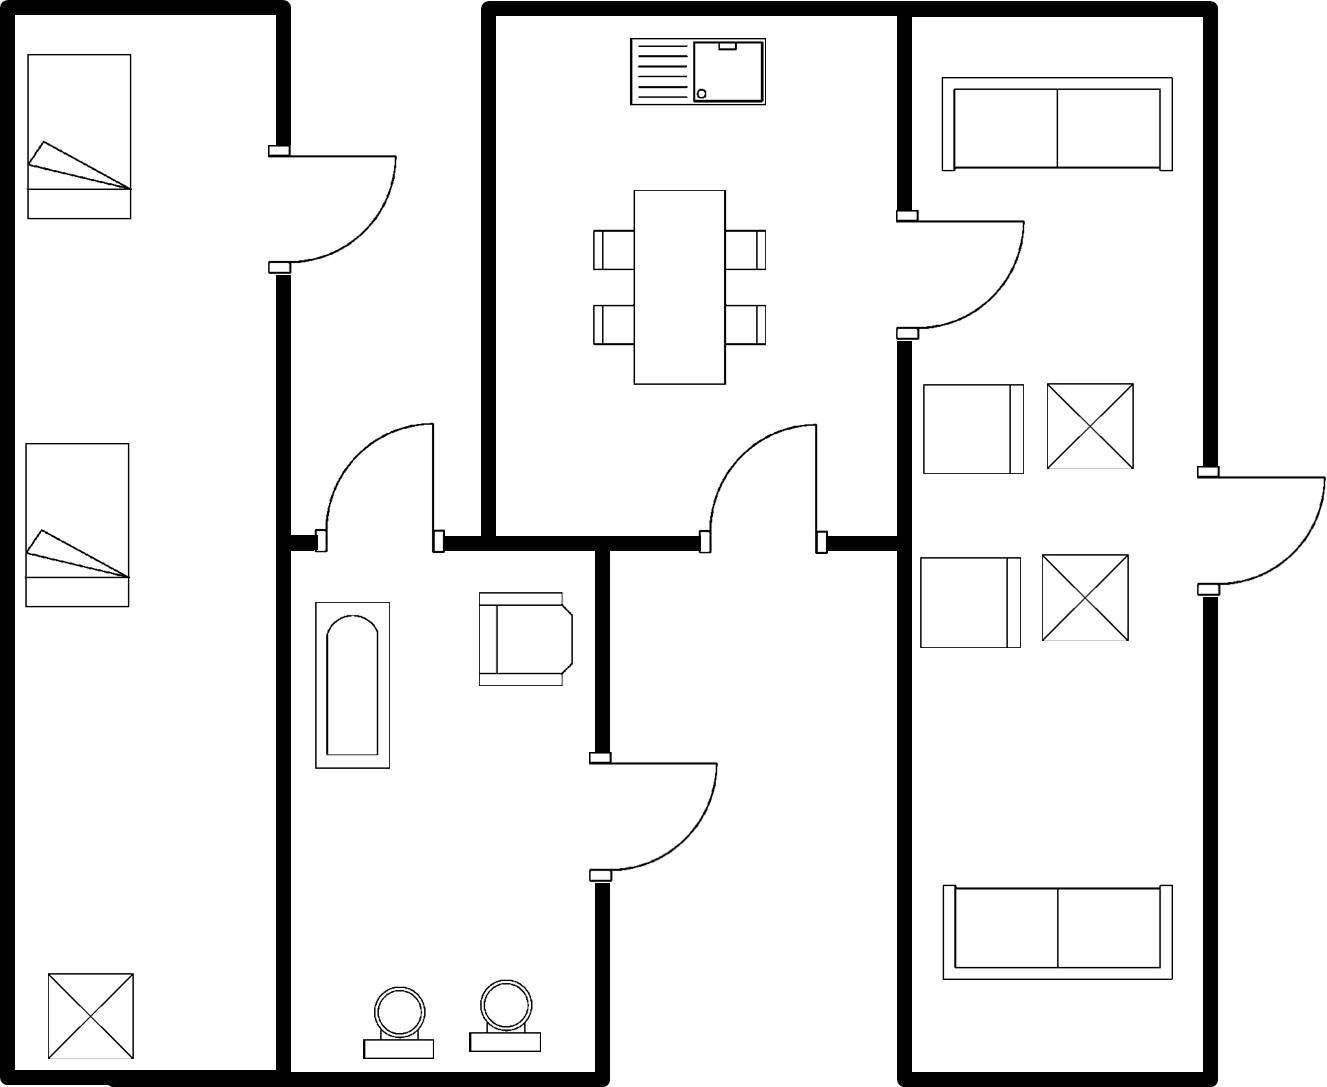armchair: (467, 581, 581, 693)
bed: (20, 437, 141, 615), (20, 47, 138, 228)
coffee_table: (40, 964, 145, 1063), (1040, 374, 1142, 476), (1035, 547, 1137, 648)
dining_table: (583, 178, 773, 391)
large_sink: (354, 977, 445, 1068), (457, 975, 548, 1060)
large_sofa: (935, 71, 1181, 183), (933, 877, 1182, 988)
sink: (617, 31, 779, 118)
small_sofa: (914, 548, 1027, 657), (917, 376, 1030, 480)
tub: (309, 596, 401, 779)
